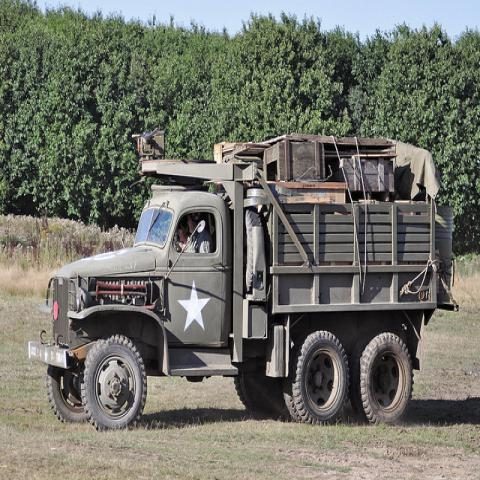truck: (17, 142, 450, 440)
